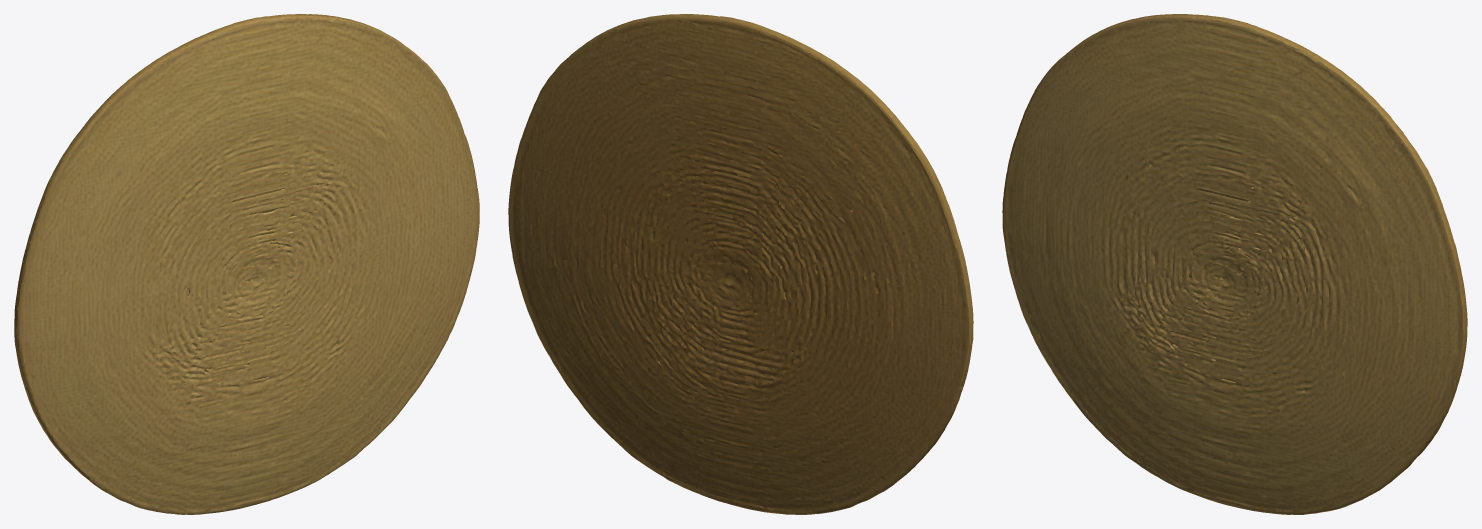
File: item_bacc363b.glb
3 renders of one model, left to right at view 1: azimuth 30°, elevation 25°; view 2: azimuth 150°, elevation 25°; view 3: azimuth 330°, elevation 25°, orthographic.
Visible parts, largest first — view 1: world; view 2: world; view 3: world.
Part boxes in pixels (x1,y1,x2,y2): world: (14, 14, 479, 514); world: (508, 14, 973, 514); world: (1002, 14, 1467, 514).
Size of the model in its own units: 0.38 by 0.3804 by 0.0318.
1 material, 1 textured.
